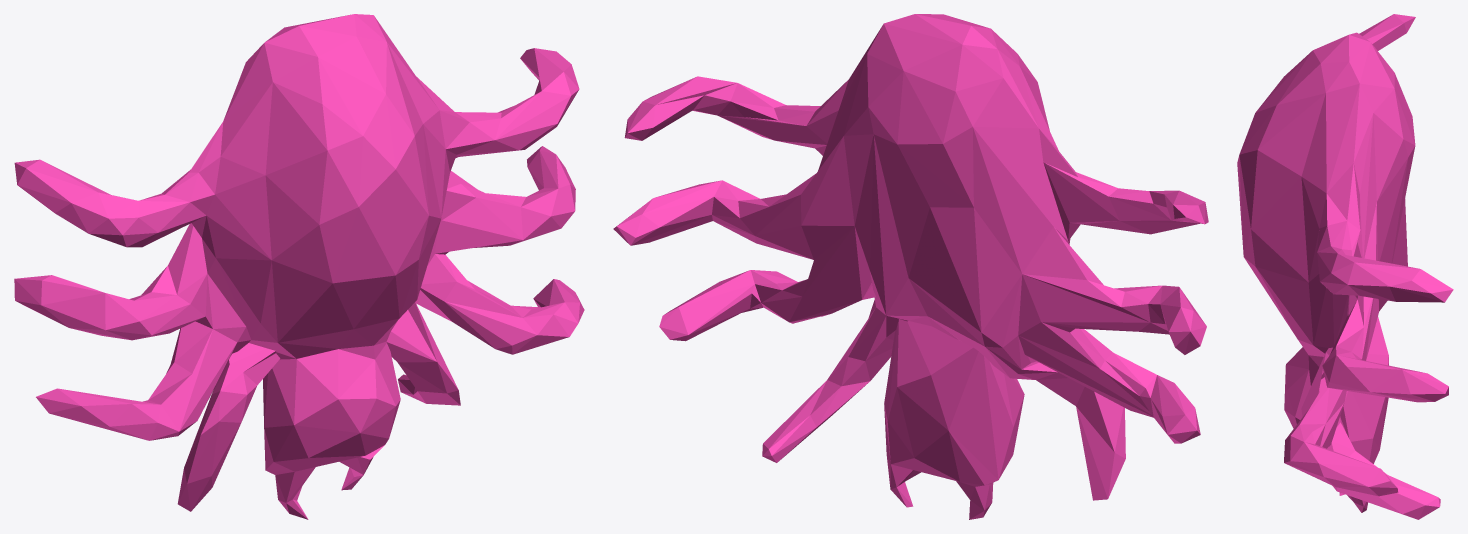
Rendered from aranya2_000003.obj.
The picture shows the model from 3 angles, left to right: view 1: azimuth 30°, elevation 25°; view 2: azimuth 150°, elevation 25°; view 3: azimuth 270°, elevation 25°; orthographic projection. The views are drawn at different scales.
Parts seen in each view (by area): view 1: Cube; view 2: Cube; view 3: Cube.
Part boxes in pixels (x1,y1,x2,y2): Cube: [14, 14, 584, 519]; Cube: [613, 14, 1208, 519]; Cube: [1237, 14, 1453, 519].
Size of the model in its own units: 20.26 by 17.03 by 7.27.
1 material, 1 textured.
